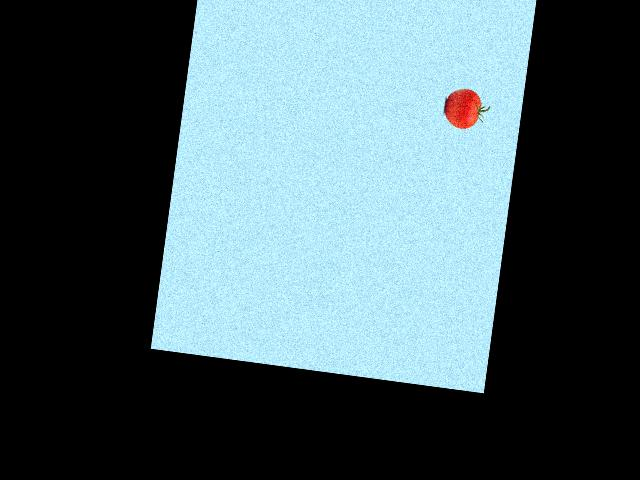tomato: (442, 87, 482, 131)
